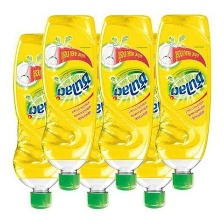book: (153, 11, 215, 191), (40, 12, 99, 193), (97, 12, 156, 191), (66, 32, 125, 210), (9, 32, 66, 211), (125, 31, 179, 210)
